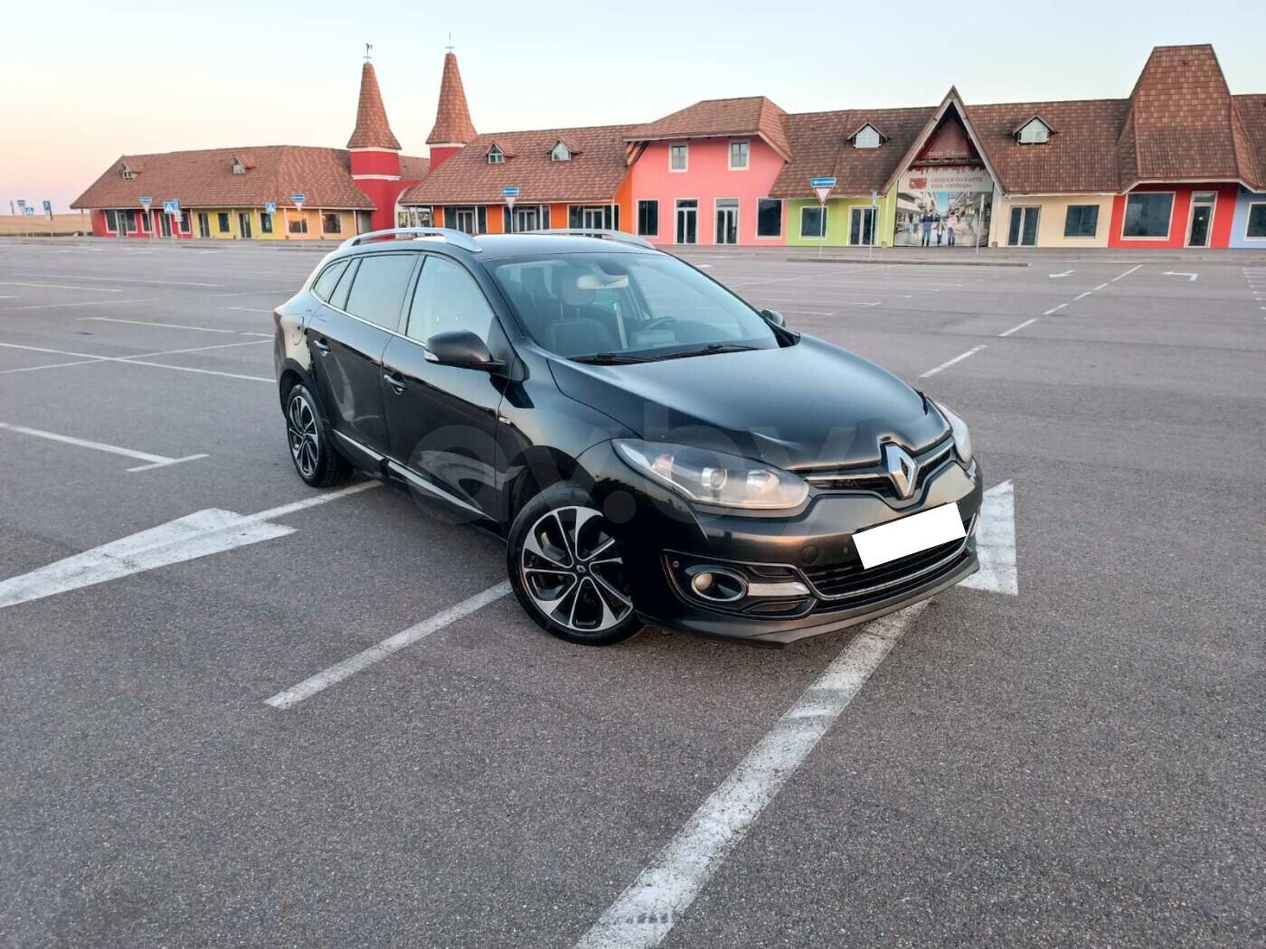Megane_2014-2016: (270, 227, 995, 649)
